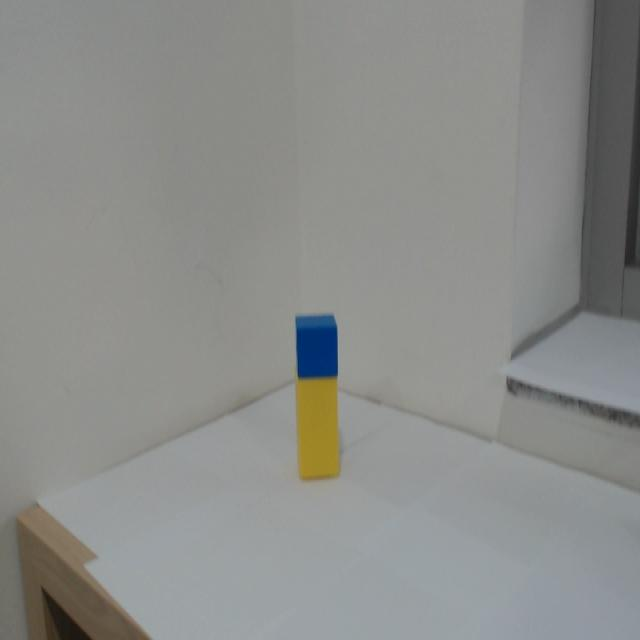cube: (296, 312, 339, 377)
